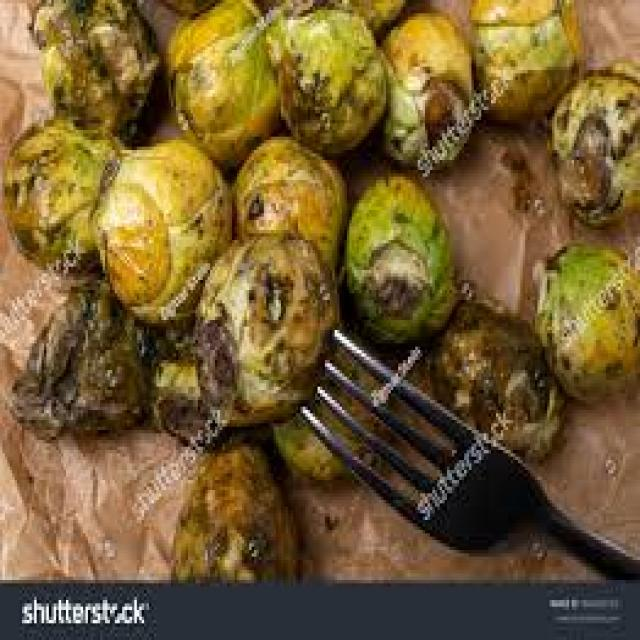organic waste: (190, 227, 340, 423), (88, 134, 230, 324), (5, 273, 144, 430), (428, 294, 564, 454), (342, 163, 457, 340), (2, 114, 127, 274), (163, 0, 293, 153), (169, 430, 298, 577), (261, 3, 386, 147), (227, 130, 345, 277), (274, 320, 386, 473), (532, 236, 638, 396), (32, 0, 161, 130), (542, 53, 638, 227), (376, 7, 472, 163), (469, 0, 584, 123), (139, 317, 215, 443), (159, 0, 278, 17), (327, 0, 407, 23)
